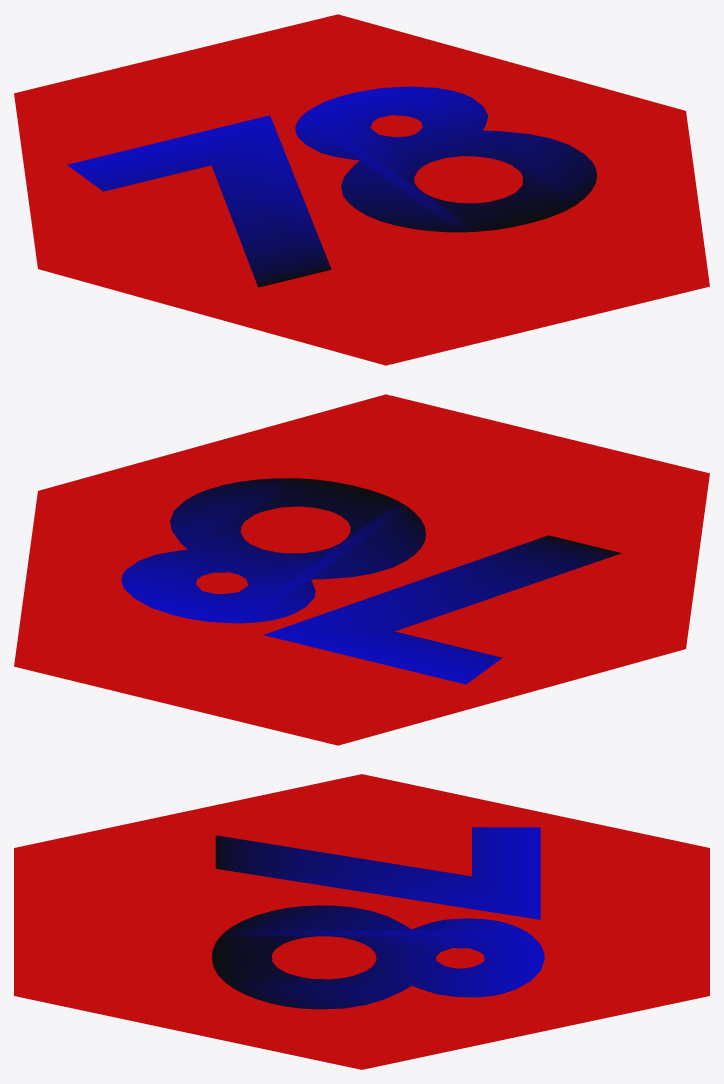
Rendered from SM_Number_78.fbx.
3 views of the same model, one above another, from view 1: azimuth 30°, elevation 25°; view 2: azimuth 150°, elevation 25°; view 3: azimuth 270°, elevation 25° (orthographic). The views are drawn at different scales.
Visible parts, largest first — view 1: FBX_OUT; view 2: FBX_OUT; view 3: FBX_OUT.
Part boxes in pixels (<box>): FBX_OUT: <box>14,14,709,365</box>; FBX_OUT: <box>14,394,709,745</box>; FBX_OUT: <box>14,774,709,1069</box>.
Bounding box in the file's own units: 50 × 0.2917 × 49.71.
